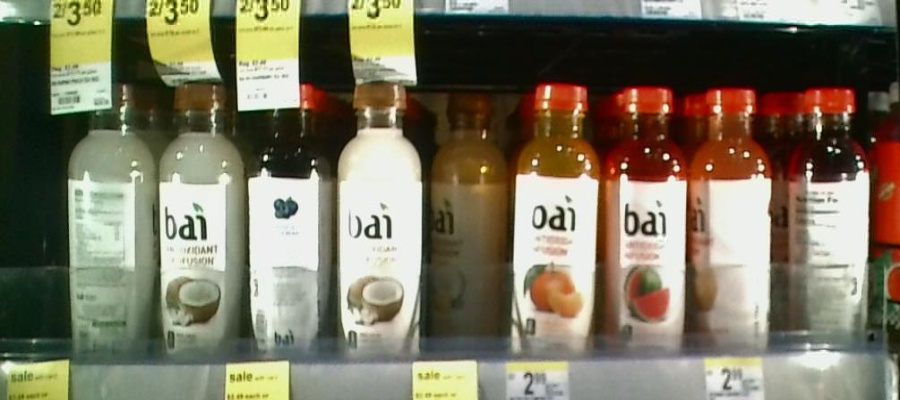bottle: (64, 73, 155, 355), (159, 75, 247, 356), (604, 72, 690, 359), (248, 70, 334, 354), (339, 79, 423, 367), (515, 80, 597, 357), (792, 78, 875, 351), (694, 79, 775, 355), (427, 81, 507, 340)
